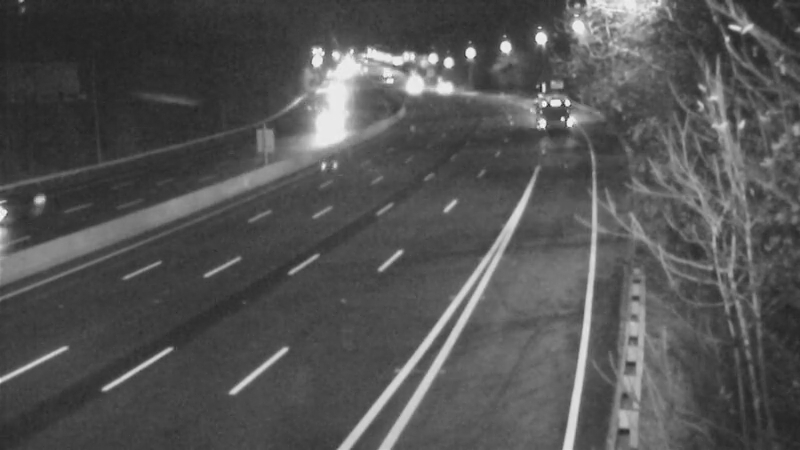vehicle: (1, 168, 73, 248), (365, 49, 415, 99), (394, 55, 444, 105), (428, 60, 478, 110), (530, 92, 580, 142), (298, 101, 348, 151), (308, 66, 358, 116)
